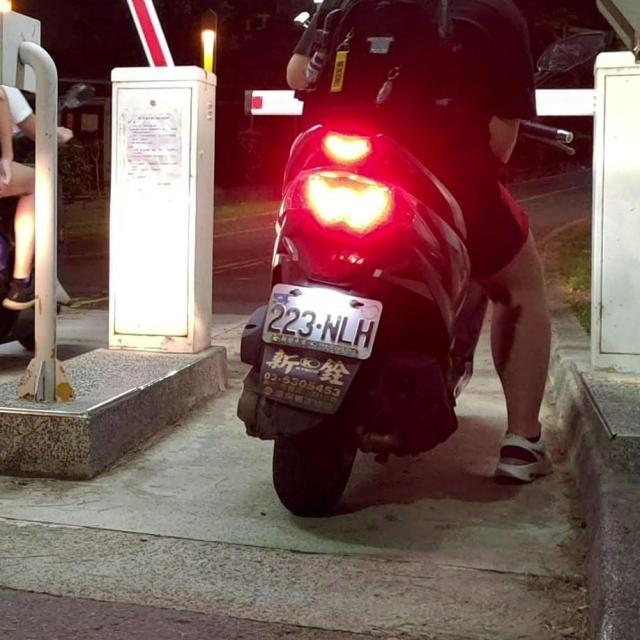W: (260, 280, 386, 360)
